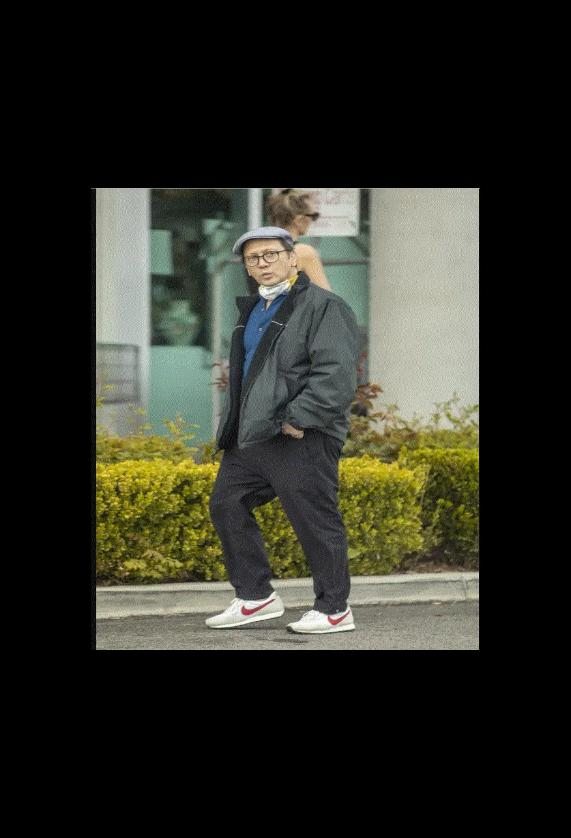mask_weared_incorrect: (244, 248, 295, 292)
